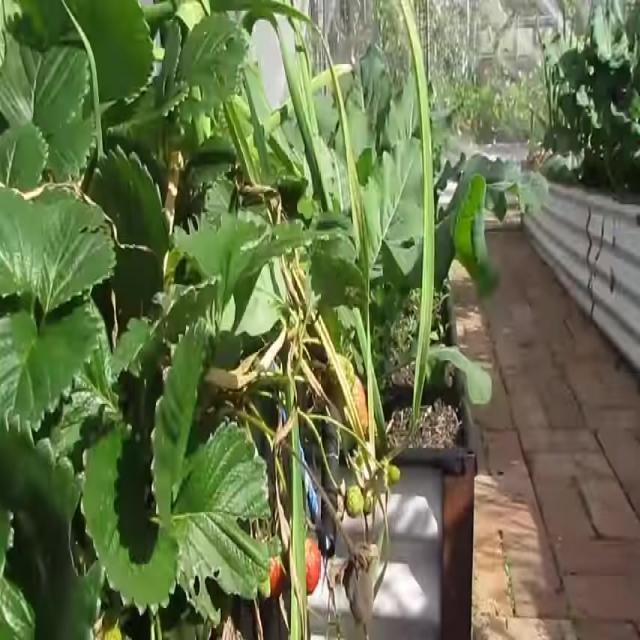Fruta sana: (254, 542, 284, 602), (294, 534, 322, 594), (342, 372, 369, 434), (327, 348, 355, 398)
Moho gris: (341, 553, 376, 627)
